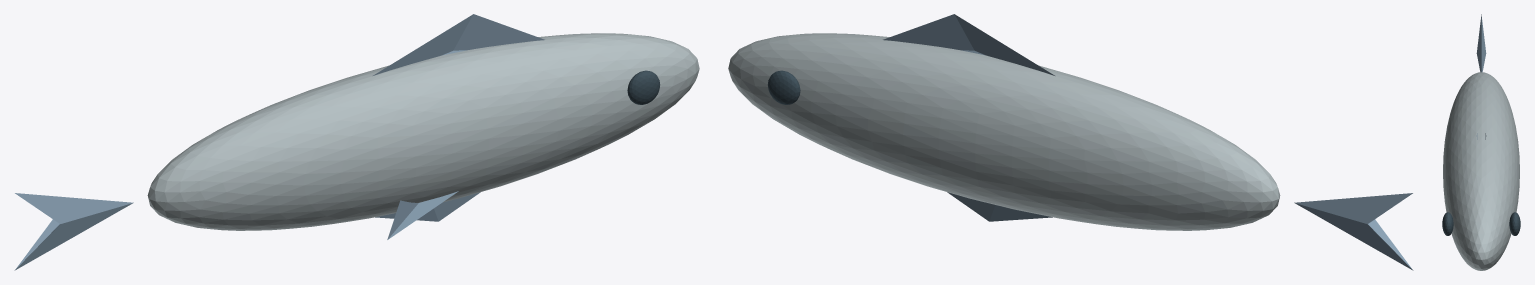
Rendered from Ikan_Talang.glb.
3 renders of one model, left to right at view 1: azimuth 30°, elevation 25°; view 2: azimuth 150°, elevation 25°; view 3: azimuth 270°, elevation 25°, orthographic. The views are drawn at different scales.
Visible parts, largest first — view 1: Part_00, Part_01, Part_02, Part_04, Part_05, Part_03; view 2: Part_00, Part_01, Part_02, Part_03, Part_06; view 3: Part_00, Part_01, Part_05, Part_06.
Part boxes in pixels (box(x1,y1,x2,y2)): Part_00: box(147, 33, 699, 230); Part_01: box(14, 193, 133, 270); Part_02: box(373, 14, 544, 75); Part_04: box(387, 191, 458, 239); Part_05: box(627, 70, 660, 104); Part_03: box(375, 192, 480, 221); Part_00: box(728, 33, 1280, 230); Part_01: box(1294, 193, 1413, 270); Part_02: box(883, 14, 1054, 75); Part_03: box(947, 192, 1052, 221); Part_06: box(767, 70, 800, 104); Part_00: box(1443, 72, 1519, 270); Part_01: box(1476, 14, 1486, 72); Part_05: box(1442, 212, 1453, 235); Part_06: box(1509, 212, 1520, 235).
Bounding box in the file's own units: 1.64 × 0.4576 × 0.2476.
